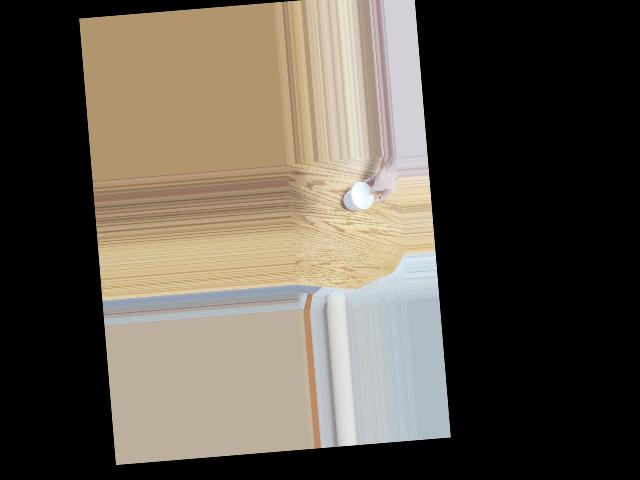cotage: (343, 182, 376, 209)
